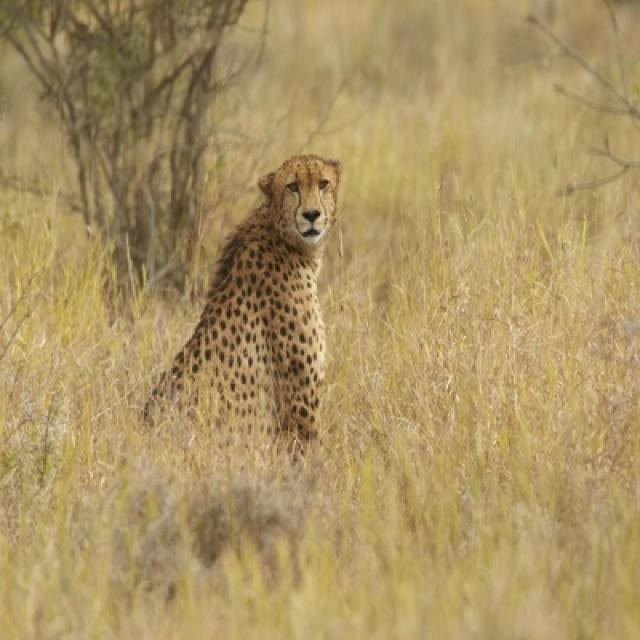Cheetah: (141, 155, 338, 475)
